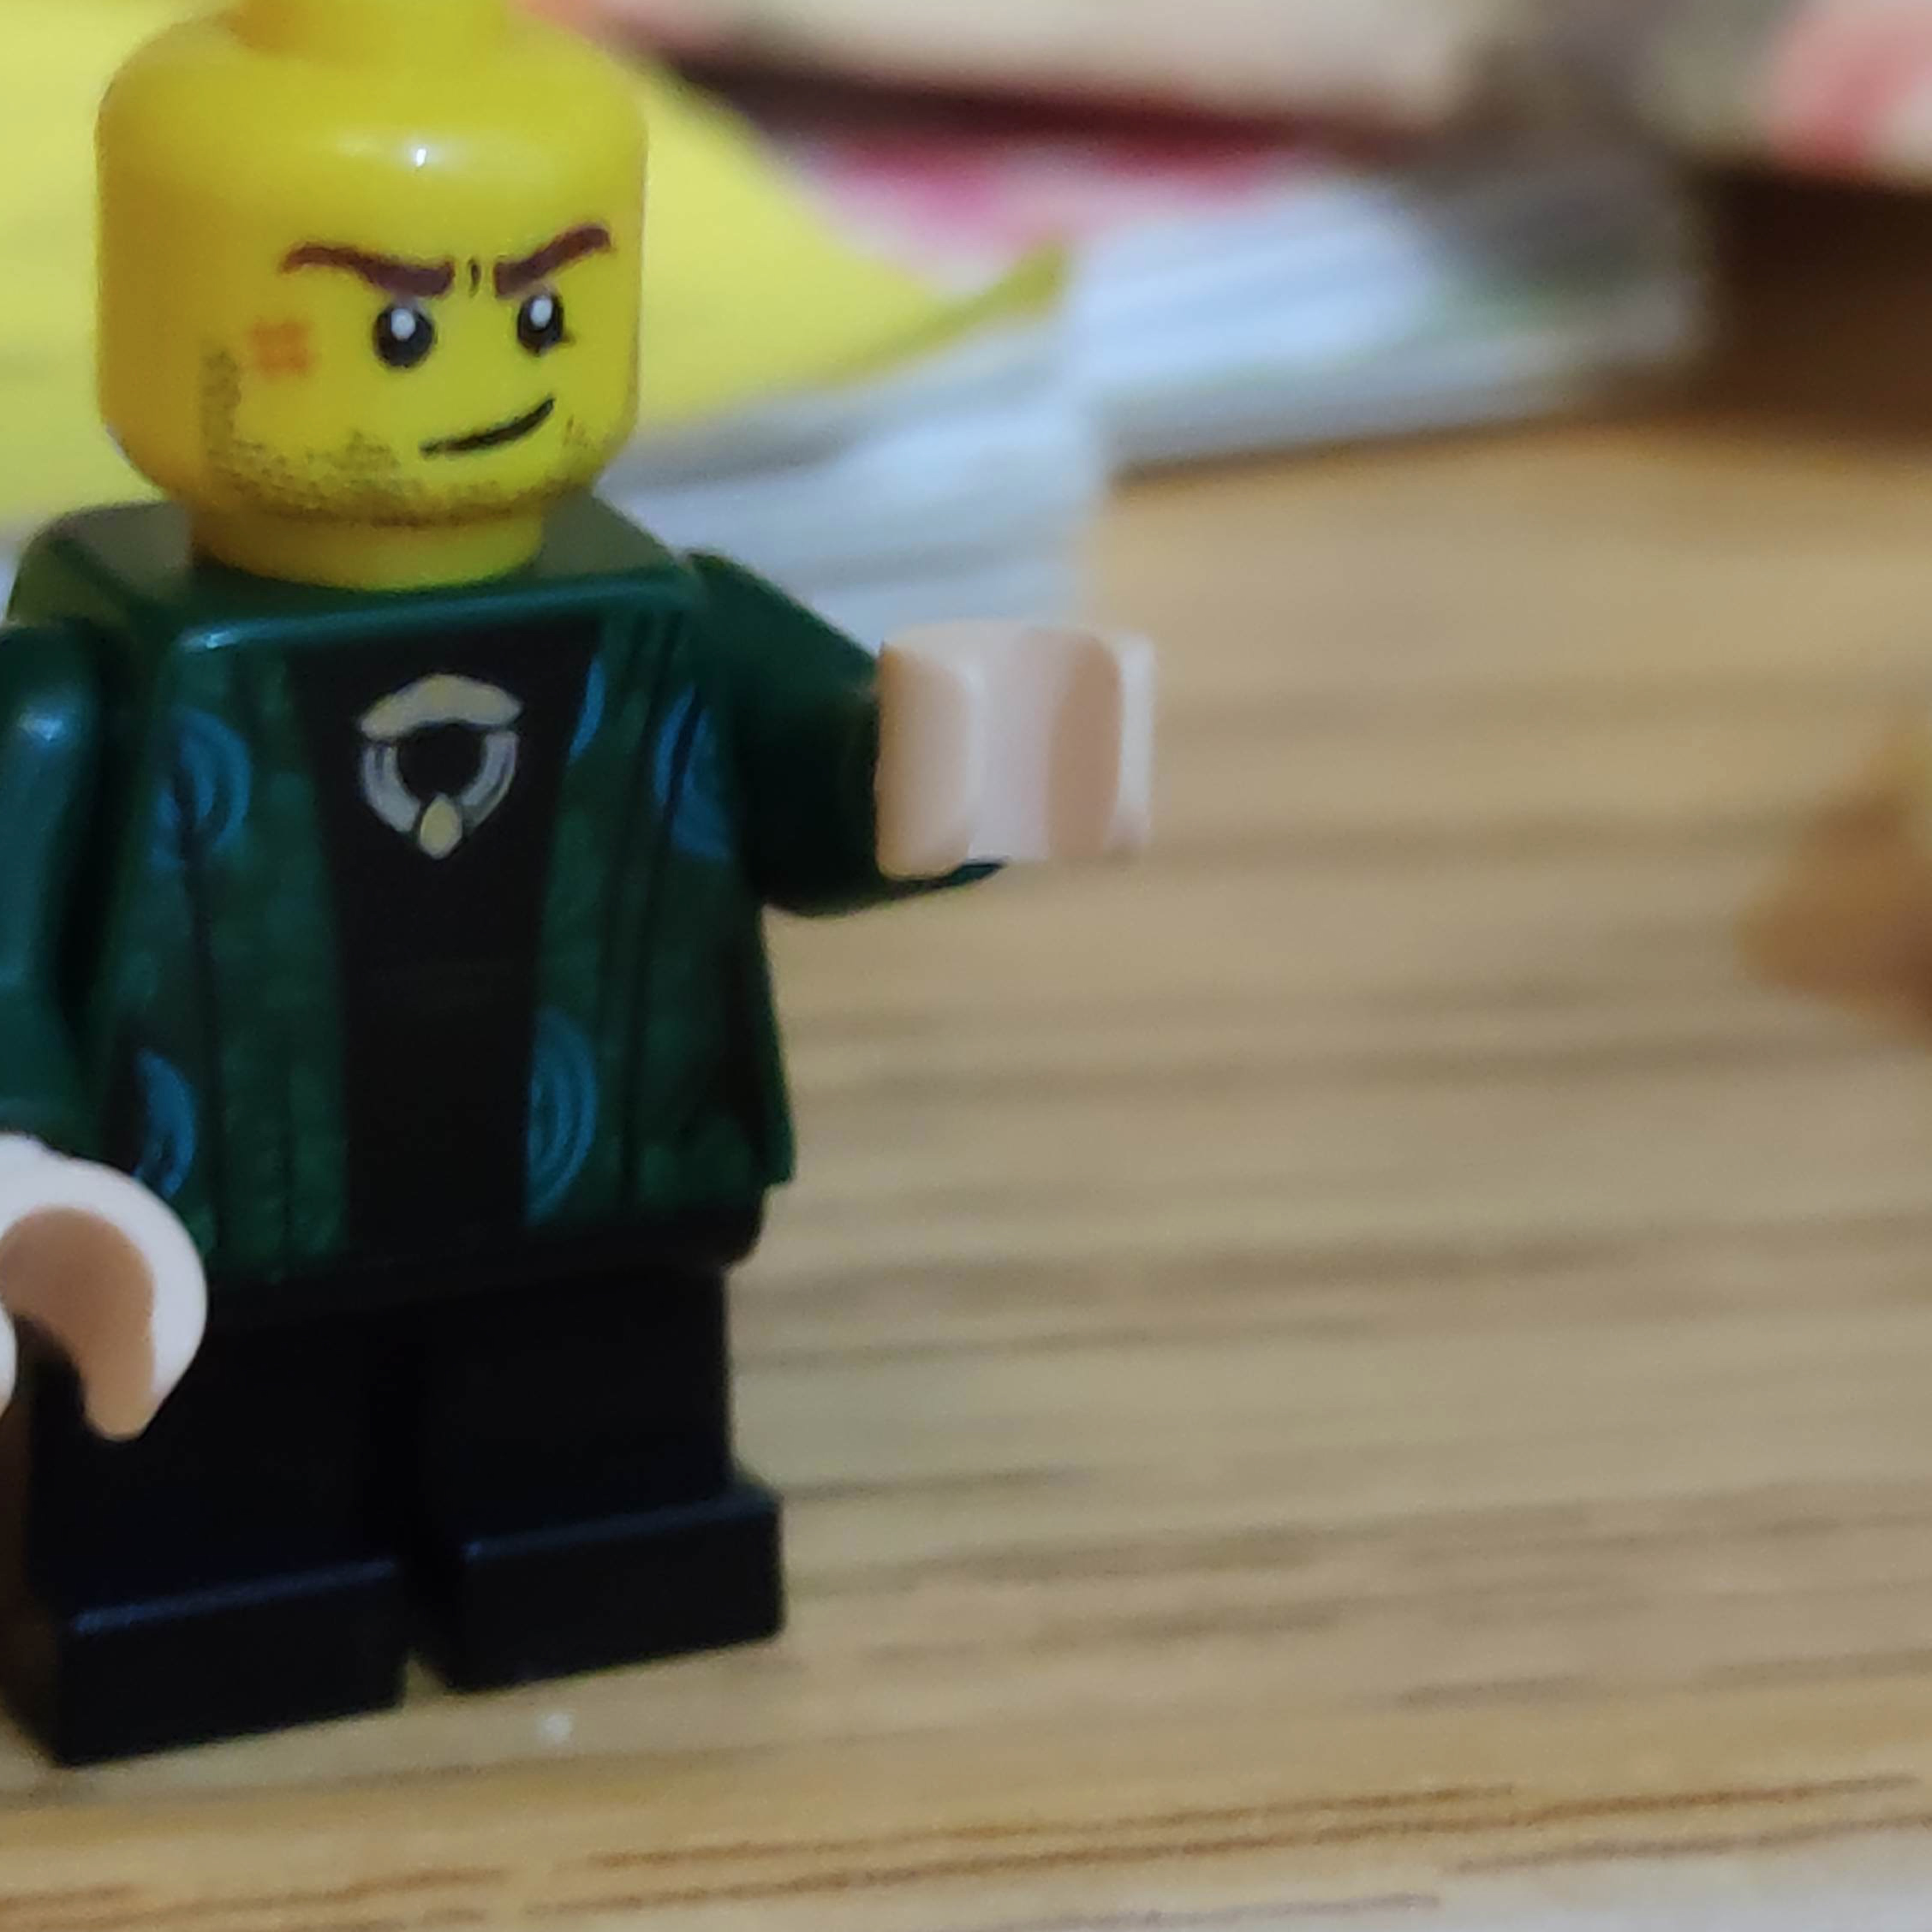lego: (0, 12, 1154, 1773)
